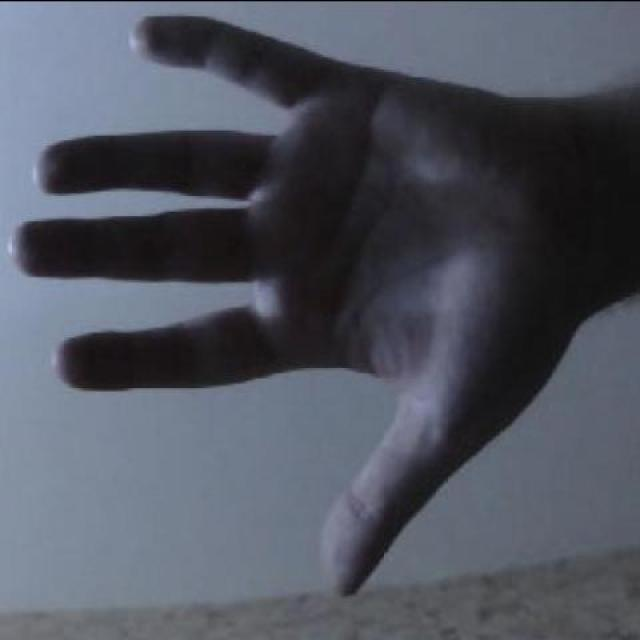Open Hand: (2, 7, 640, 612)
